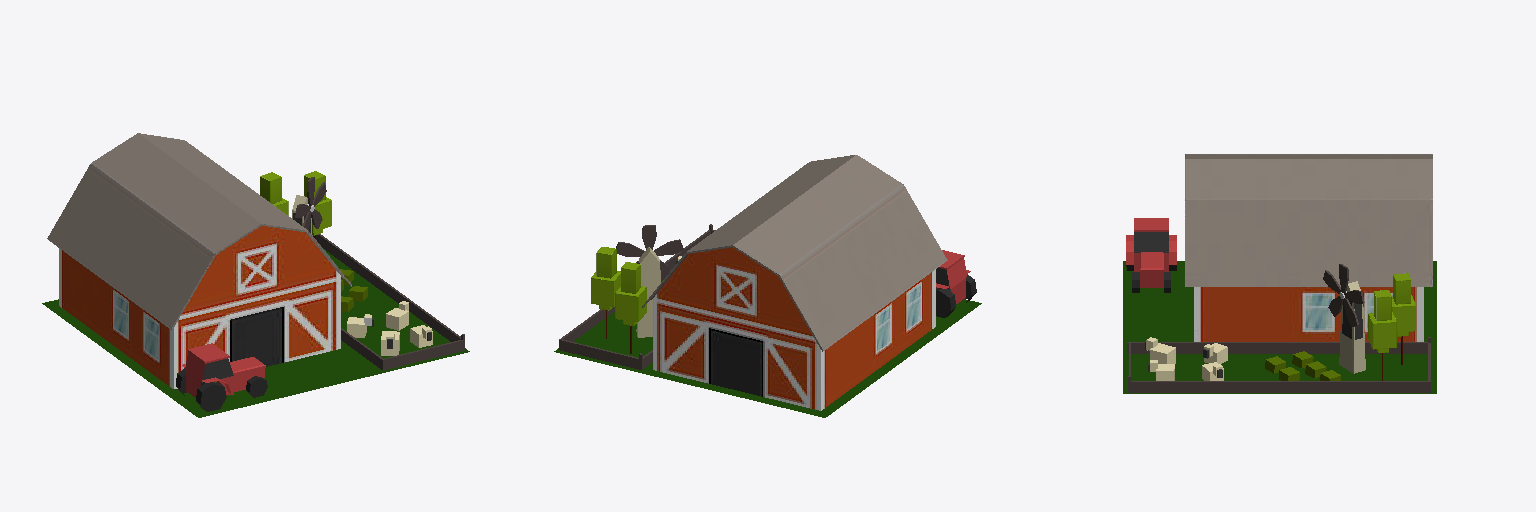
3 views of the same model, side by side, from view 1: azimuth 30°, elevation 25°; view 2: azimuth 150°, elevation 25°; view 3: azimuth 270°, elevation 25° (orthographic).
Visible parts, largest first — view 1: service_farm_farm_barn_Mesh.024, service_farm_ground_Plane.092, service_farm_tractor_farm_tractor4_Cube.041, service_farm_zabor1_farm_zabor_Cube.082, service_farm_sheep_farm_sheep2_Cube.008, service_farm_wind_farm_wind_Mesh.001, Tree_2_3_61.440_Mesh.9327, Tree_2_3_61.441_Mesh.9328, service_farm_zabor_farm_zabor_Cube.001; view 2: service_farm_farm_barn_Mesh.024, service_farm_ground_Plane.092, service_farm_wind_farm_wind_Mesh.001, service_farm_tractor_farm_tractor4_Cube.041, Tree_2_3_61.440_Mesh.9327, Tree_2_3_61.441_Mesh.9328, service_farm_zabor_farm_zabor_Cube.001, service_farm_zabor1_farm_zabor_Cube.082; view 3: service_farm_farm_barn_Mesh.024, service_farm_ground_Plane.092, service_farm_zabor1_farm_zabor_Cube.082, service_farm_tractor_farm_tractor4_Cube.041, service_farm_wind_farm_wind_Mesh.001, service_farm_zabor_farm_zabor_Cube.001, service_farm_sheep_farm_sheep2_Cube.008, Tree_2_3_61.441_Mesh.9328, Tree_2_3_61.440_Mesh.9327.
Part boxes in pixels (bbox=[...]): service_farm_farm_barn_Mesh.024: bbox=[47, 133, 352, 388]; service_farm_ground_Plane.092: bbox=[42, 249, 469, 417]; service_farm_tractor_farm_tractor4_Cube.041: bbox=[176, 343, 267, 411]; service_farm_zabor1_farm_zabor_Cube.082: bbox=[313, 234, 464, 369]; service_farm_sheep_farm_sheep2_Cube.008: bbox=[347, 301, 432, 355]; service_farm_wind_farm_wind_Mesh.001: bbox=[292, 177, 326, 233]; Tree_2_3_61.440_Mesh.9327: bbox=[260, 172, 288, 215]; Tree_2_3_61.441_Mesh.9328: bbox=[304, 171, 331, 238]; service_farm_zabor_farm_zabor_Cube.001: bbox=[341, 328, 384, 370]; service_farm_farm_barn_Mesh.024: bbox=[642, 155, 947, 410]; service_farm_ground_Plane.092: bbox=[554, 279, 981, 417]; service_farm_wind_farm_wind_Mesh.001: bbox=[616, 225, 683, 337]; service_farm_tractor_farm_tractor4_Cube.041: bbox=[936, 250, 976, 317]; Tree_2_3_61.440_Mesh.9327: bbox=[615, 262, 646, 353]; Tree_2_3_61.441_Mesh.9328: bbox=[591, 247, 620, 338]; service_farm_zabor_farm_zabor_Cube.001: bbox=[560, 339, 652, 369]; service_farm_zabor1_farm_zabor_Cube.082: bbox=[559, 224, 715, 349]; service_farm_farm_barn_Mesh.024: bbox=[1185, 154, 1432, 341]; service_farm_ground_Plane.092: bbox=[1123, 261, 1436, 393]; service_farm_zabor1_farm_zabor_Cube.082: bbox=[1128, 343, 1430, 392]; service_farm_tractor_farm_tractor4_Cube.041: bbox=[1126, 218, 1176, 292]; service_farm_wind_farm_wind_Mesh.001: bbox=[1323, 264, 1365, 373]; service_farm_zabor_farm_zabor_Cube.001: bbox=[1127, 337, 1430, 381]; service_farm_sheep_farm_sheep2_Cube.008: bbox=[1145, 337, 1227, 380]; Tree_2_3_61.441_Mesh.9328: bbox=[1368, 290, 1396, 380]; Tree_2_3_61.440_Mesh.9327: bbox=[1392, 273, 1415, 364].
Size of the model in its own units: 2 by 1.08 by 2.
6 materials, 4 textured.